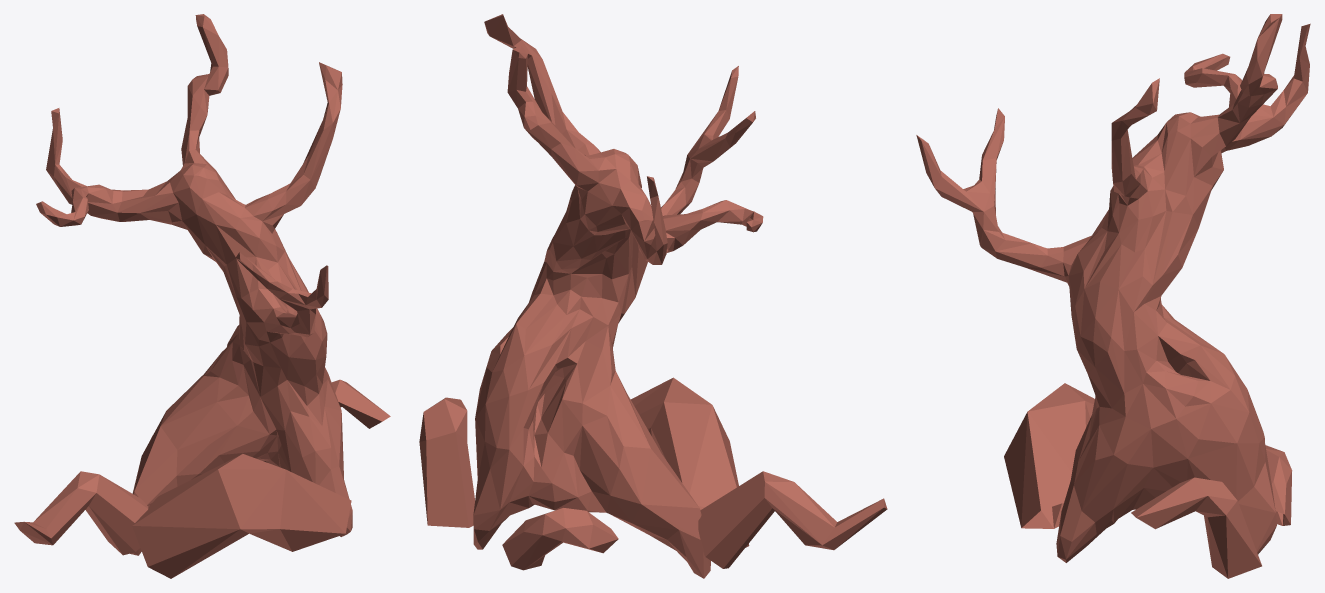
File: Tree.fbx
3 views of the same model, side by side, from view 1: azimuth 30°, elevation 25°; view 2: azimuth 150°, elevation 25°; view 3: azimuth 270°, elevation 25° (orthographic). The views are drawn at different scales.
Parts seen in each view (by area): view 1: Tree; view 2: Tree; view 3: Tree.
Part boxes in pixels (bbox=[...]): Tree: bbox=[14, 14, 390, 578]; Tree: bbox=[419, 14, 887, 578]; Tree: bbox=[916, 14, 1310, 578].
Size of the model in its own units: 3.91 by 4.72 by 3.11.
